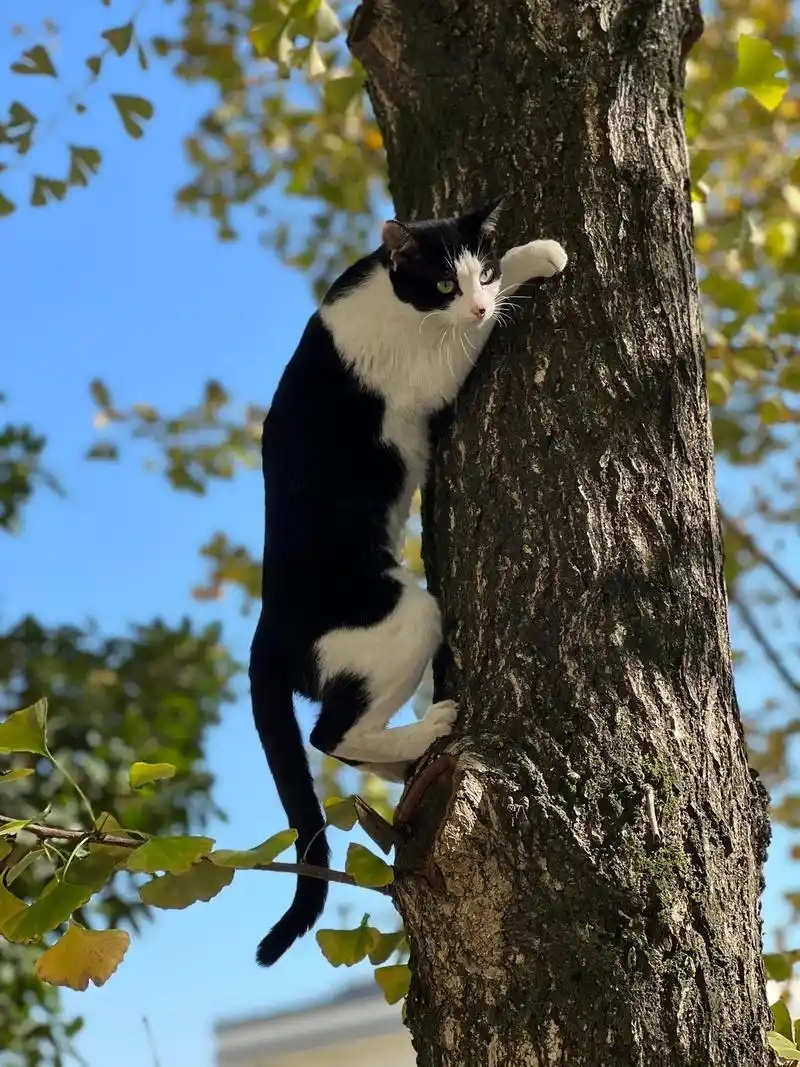奶牛猫: (252, 222, 566, 773)
